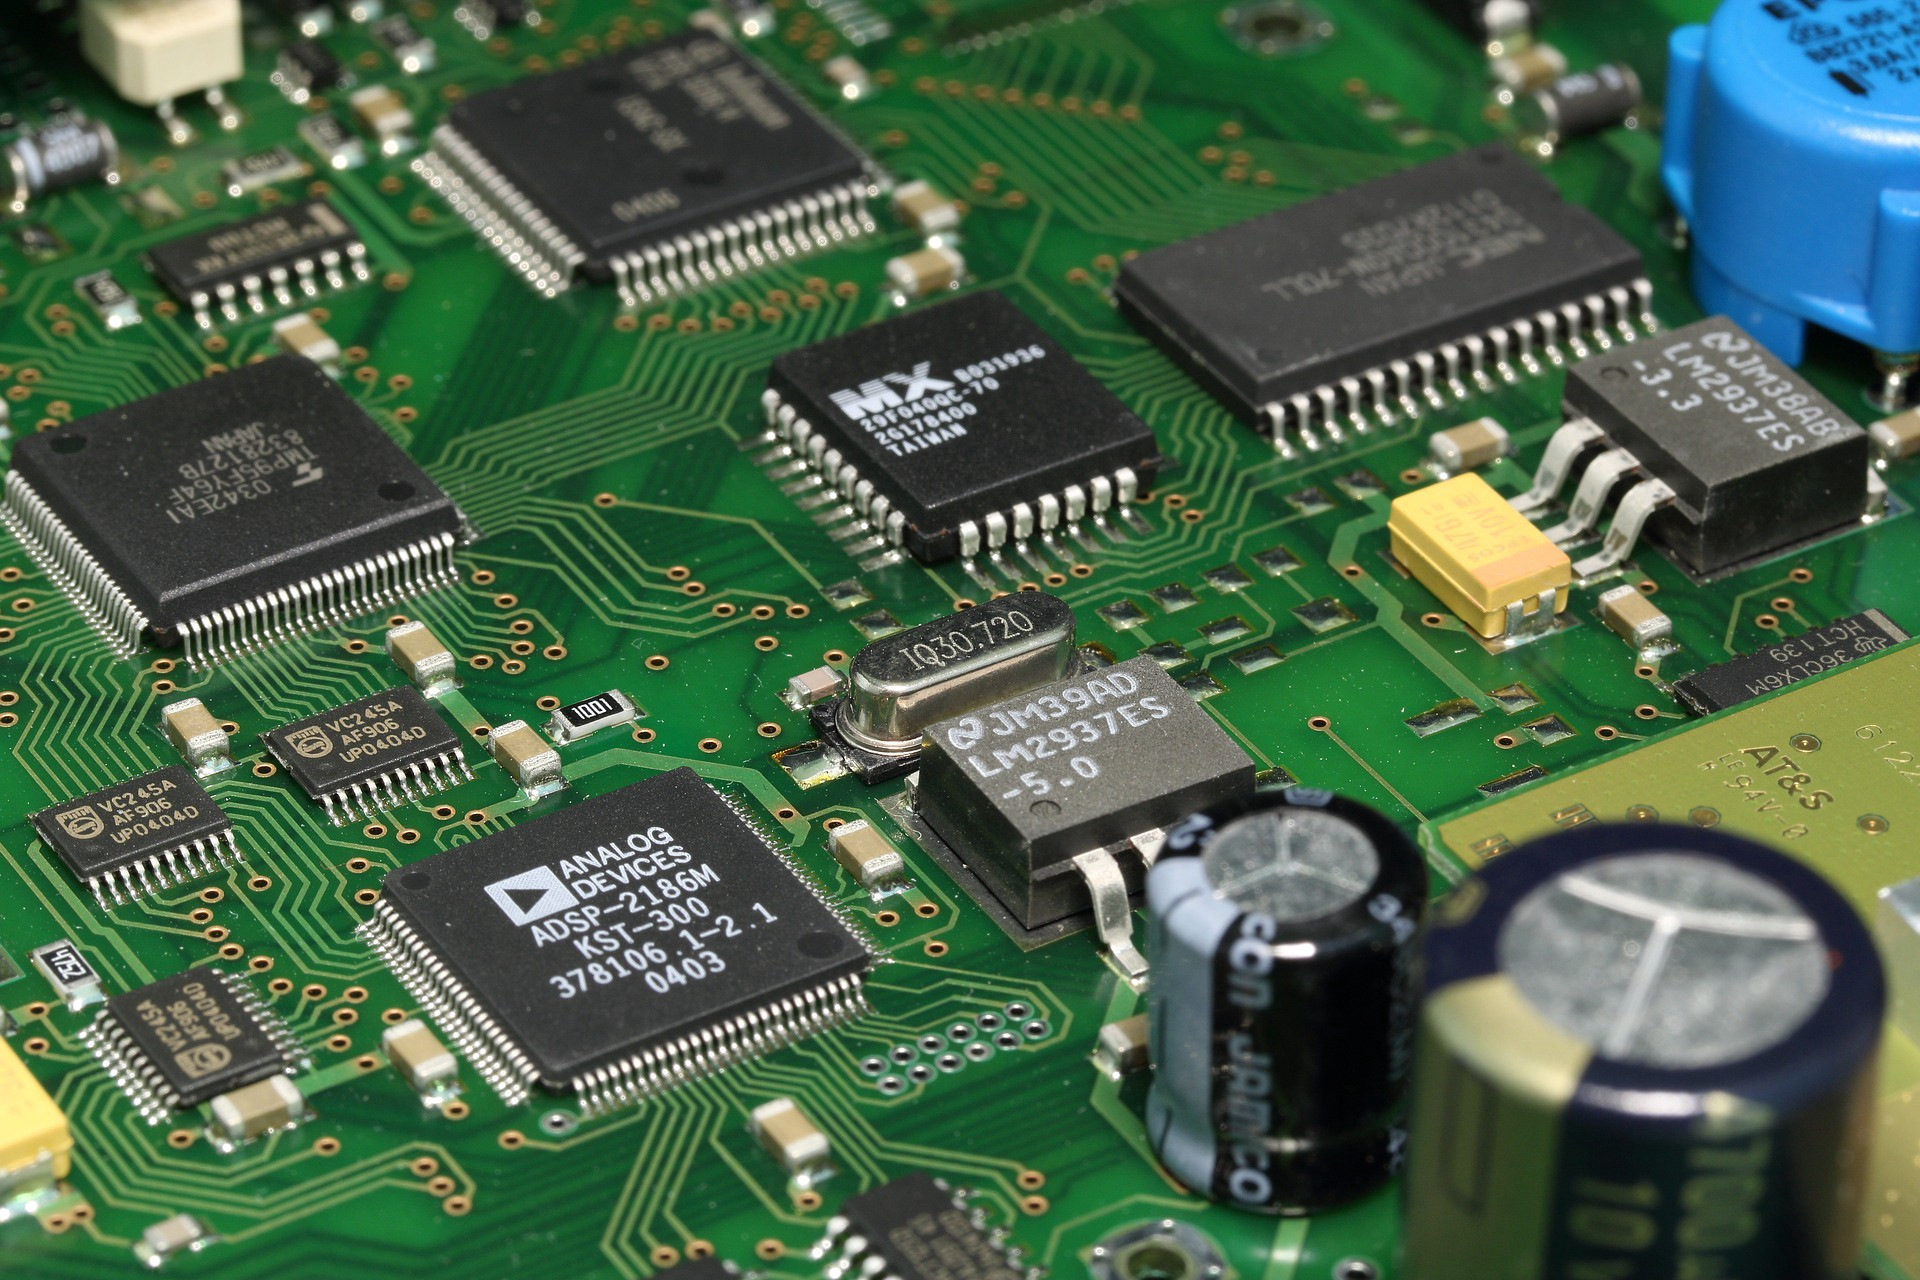capacitor: (1433, 777, 1836, 1143), (1147, 749, 1427, 1214)
